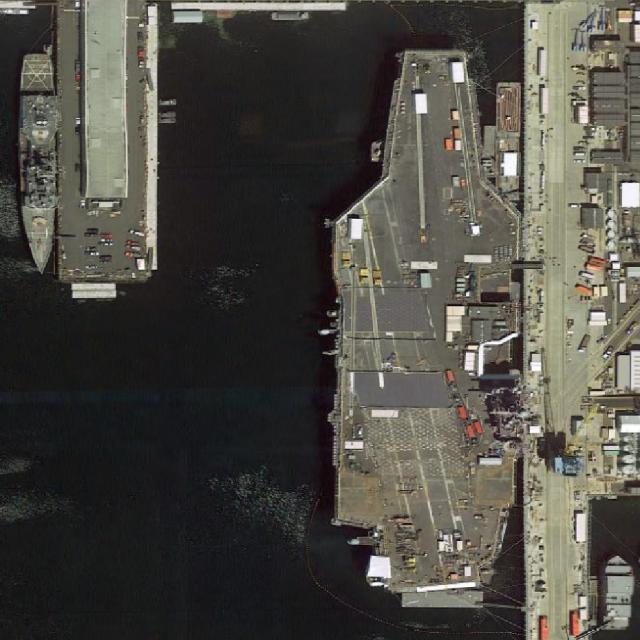Aircraft Carrier: (326, 50, 522, 592)
Dock: (55, 8, 157, 281)
Frigate: (20, 53, 55, 277)
